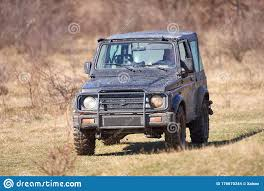Vehicle: (70, 31, 215, 156)
